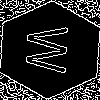W: (25, 25, 79, 75)
